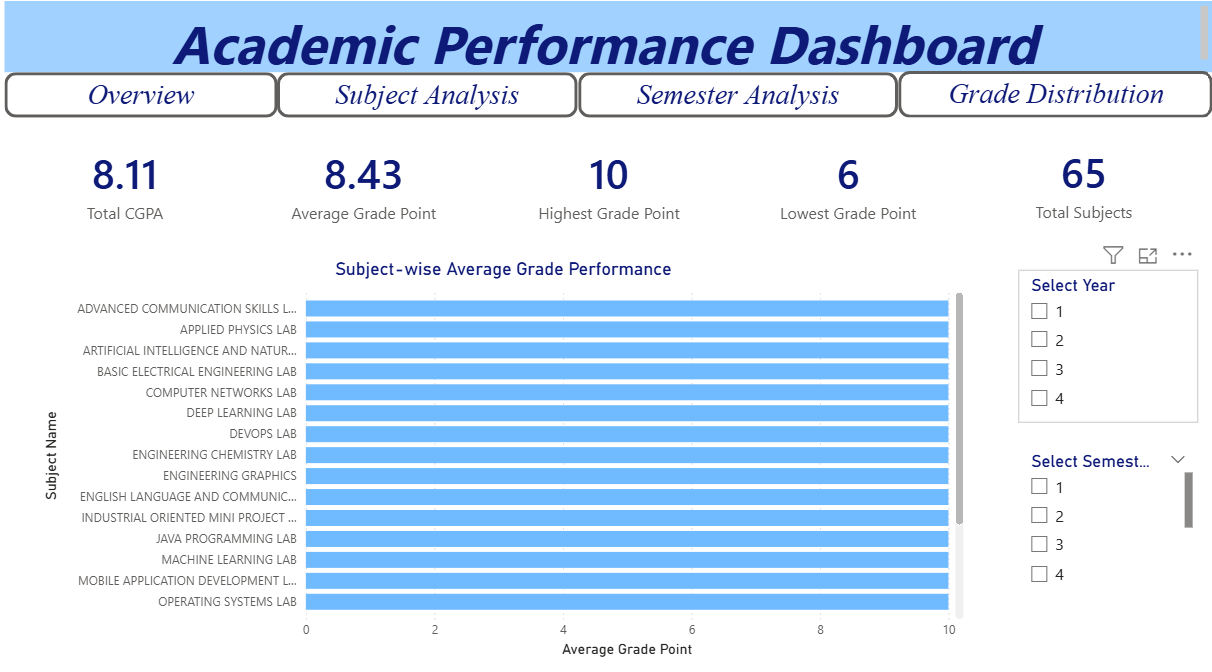

Layout of this report page (visuals, bound fields, positions):
{"tool":"powerbi","page":{"name":"Overview","canvas":[1280,720],"ordinal":0},"visuals":[{"type":"textbox","box":[27.4,39.8,1208.9,71.4],"z":0},{"type":"actionButton","box":[300.5,111.1,300.5,45.3],"z":1000},{"type":"actionButton","box":[601,111.1,319.7,45.3],"z":2000},{"type":"actionButton","box":[920.8,109.8,315.6,46.7],"z":3000},{"type":"actionButton","box":[27.4,111.1,273.1,45.3],"z":4000},{"type":"cardVisual","fields":{"Data":["academictable.Total CGPA"]},"box":[27.4,166,241.5,113.9],"z":5000},{"type":"cardVisual","fields":{"Data":["academictable.Average Grade Point"]},"box":[269,166,236,113.9],"z":6000},{"type":"cardVisual","fields":{"Data":["academictable.Highest Grade Point"]},"box":[514.6,166,234.6,113.9],"z":7000},{"type":"cardVisual","fields":{"Data":["academictable.Total Subjects"]},"box":[992.1,163.3,229.2,116.6],"z":8000},{"type":"clusteredBarChart","title":"Subject-wise Average Grade Performance","fields":{"Category":["academictable.Subject Name"],"Y":["academictable.Average Grade Point"]},"box":[61.7,297.8,930.4,403.4],"z":9000},{"type":"slicer","fields":{"Values":["academictable.Year"]},"box":[1041.5,308.7,179.8,153.7],"z":10000},{"type":"cardVisual","fields":{"Data":["academictable.Lowest Grade Point"]},"box":[761.6,166,220.9,113.9],"z":11000},{"type":"slicer","fields":{"Values":["academictable.Semester_Number"]},"box":[1041.2,480.2,179.8,144.8],"z":12000}]}

Visuals, with their boxes in screenshot pixels (x1, y1, x2, y2), scaled from the page's 1280x720 canvas onto the 1212x672 screenshot:
textbox: [26, 37, 1171, 104]
actionButton: [285, 104, 569, 146]
actionButton: [569, 104, 872, 146]
actionButton: [872, 102, 1171, 146]
actionButton: [26, 104, 285, 146]
cardVisual - academictable.Total CGPA: [26, 155, 255, 261]
cardVisual - academictable.Average Grade Point: [255, 155, 478, 261]
cardVisual - academictable.Highest Grade Point: [487, 155, 709, 261]
cardVisual - academictable.Total Subjects: [939, 152, 1156, 261]
"Subject-wise Average Grade Performance" clusteredBarChart: [58, 278, 939, 654]
slicer - academictable.Year: [986, 288, 1156, 432]
cardVisual - academictable.Lowest Grade Point: [721, 155, 930, 261]
slicer - academictable.Semester_Number: [986, 448, 1156, 583]
